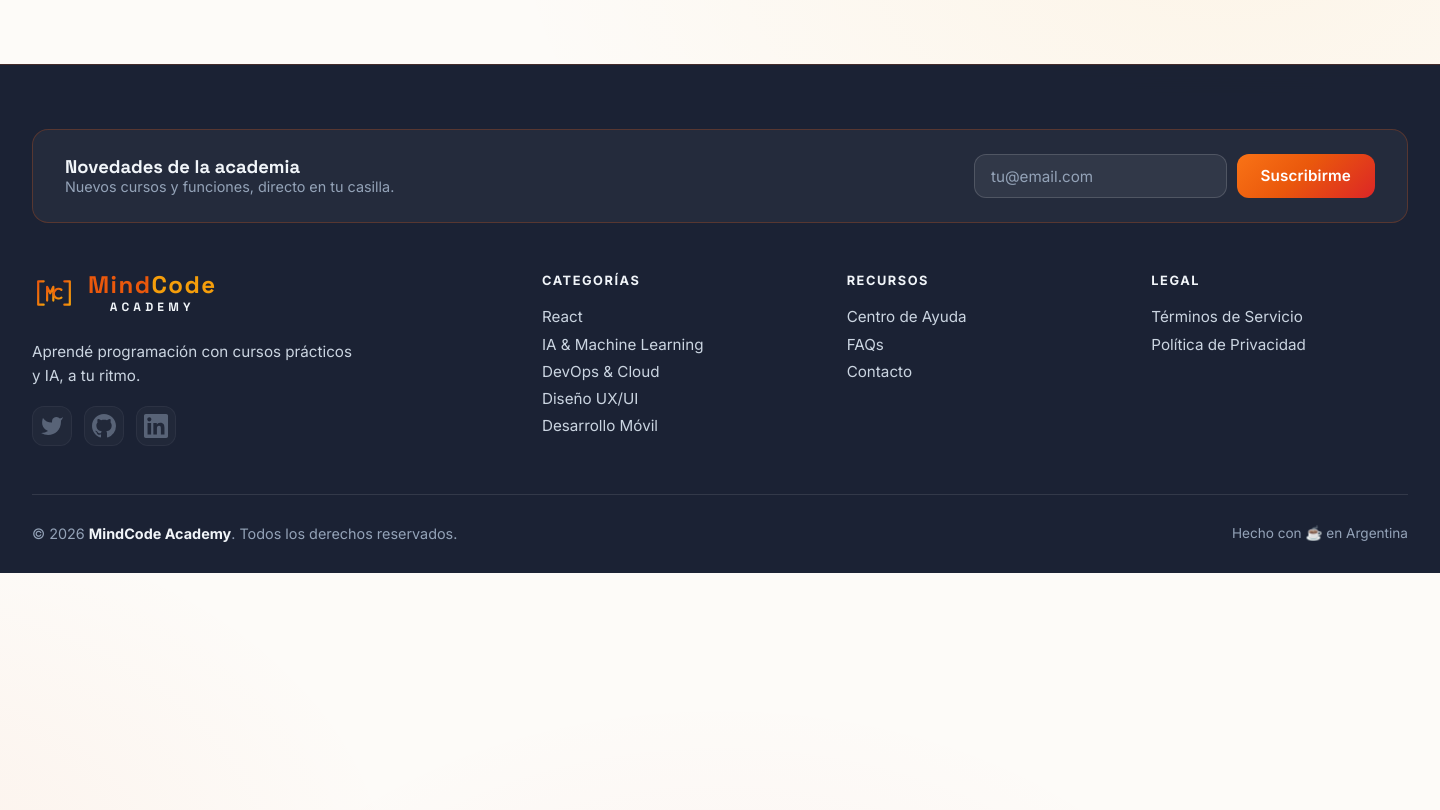
it: Footer newsletter (demo wiring) › rejects an invalid email with an inline error and no toast
This screenshot has width=1440, height=810.
In the field labelled "email": (1100, 176) [974,154,1227,198], type "no-es-un-email"
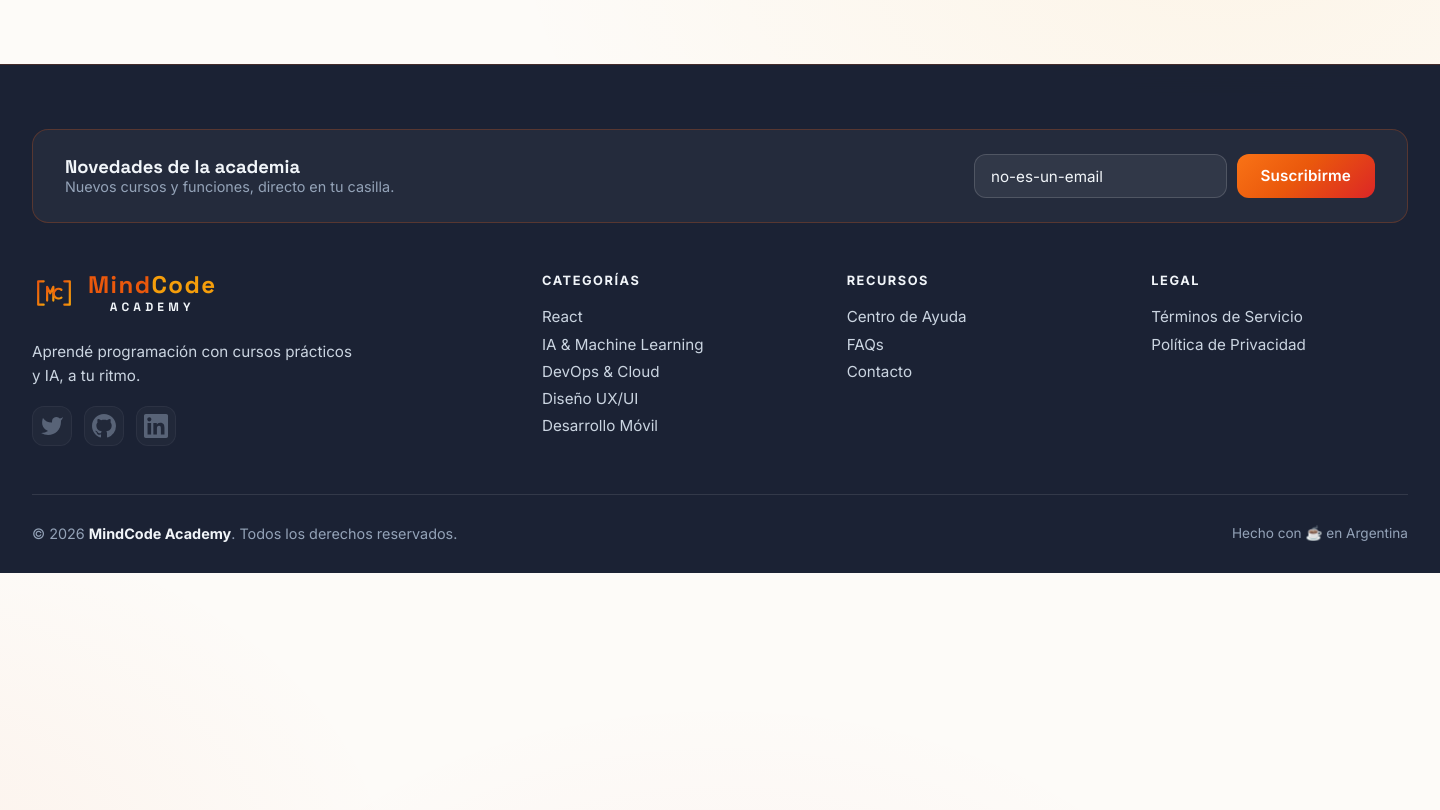
Submit the form named "Email", box [974,154,1375,198]
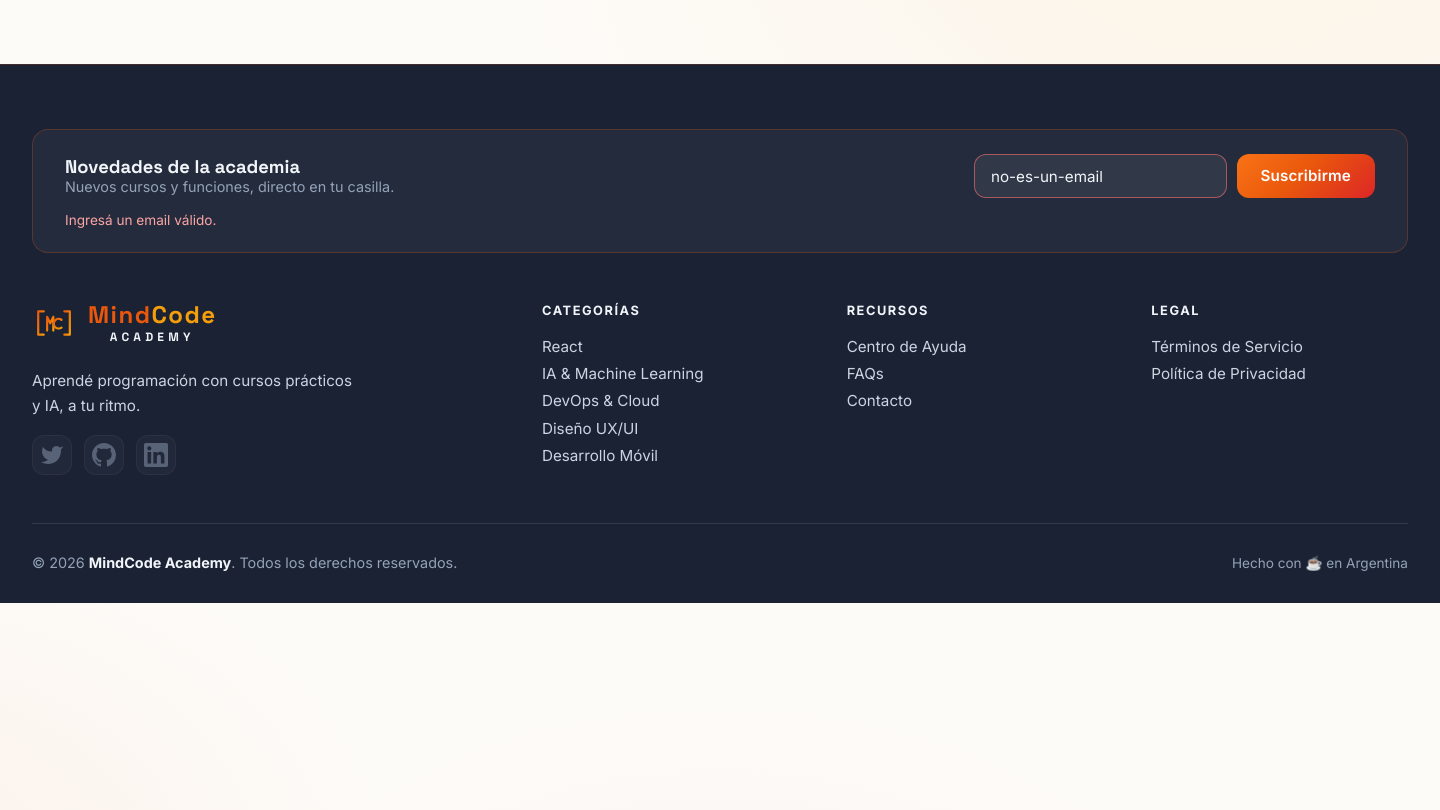
Expected: the message reads "Ingresá un email válido.", [65,212,216,228]
